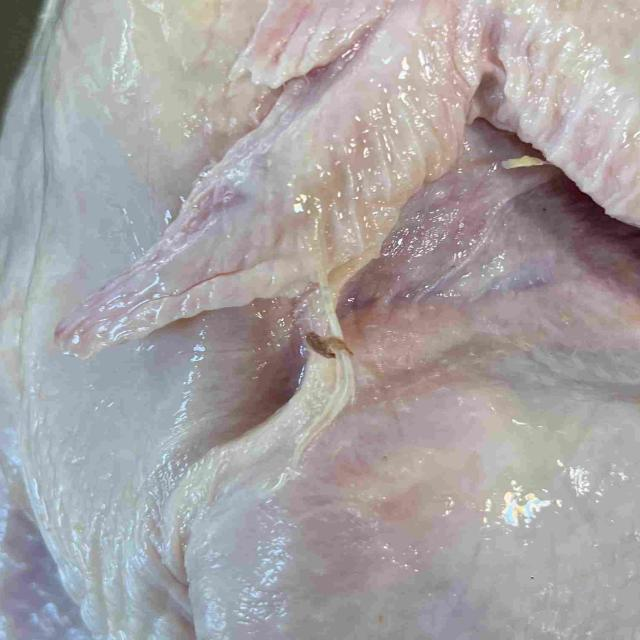breast: (0, 0, 263, 334)
leg: (178, 347, 640, 640)
wing: (64, 0, 640, 360)
